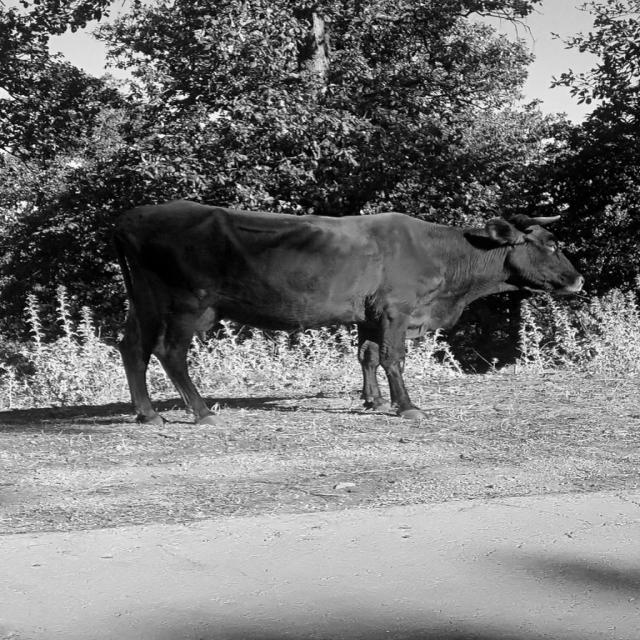cow: (115, 200, 584, 423)
